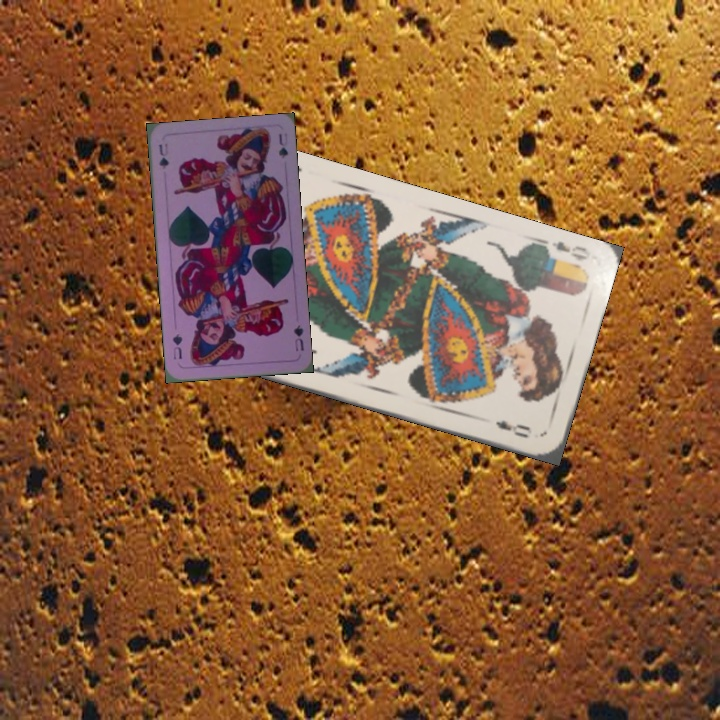EO: (536, 235, 593, 270)
GU: (290, 321, 307, 354), (155, 140, 171, 171)
